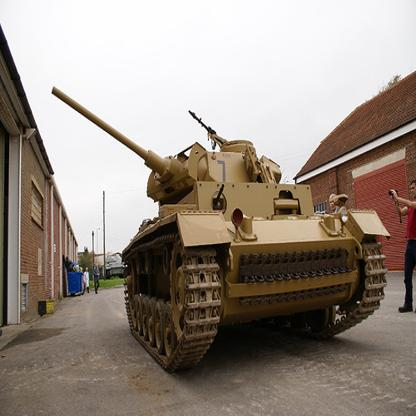Tank: (47, 80, 389, 387)
